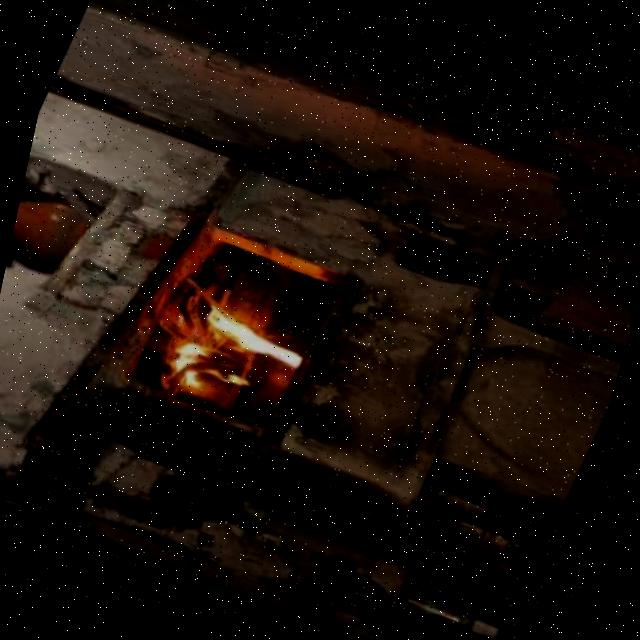fire: (153, 279, 339, 434)
